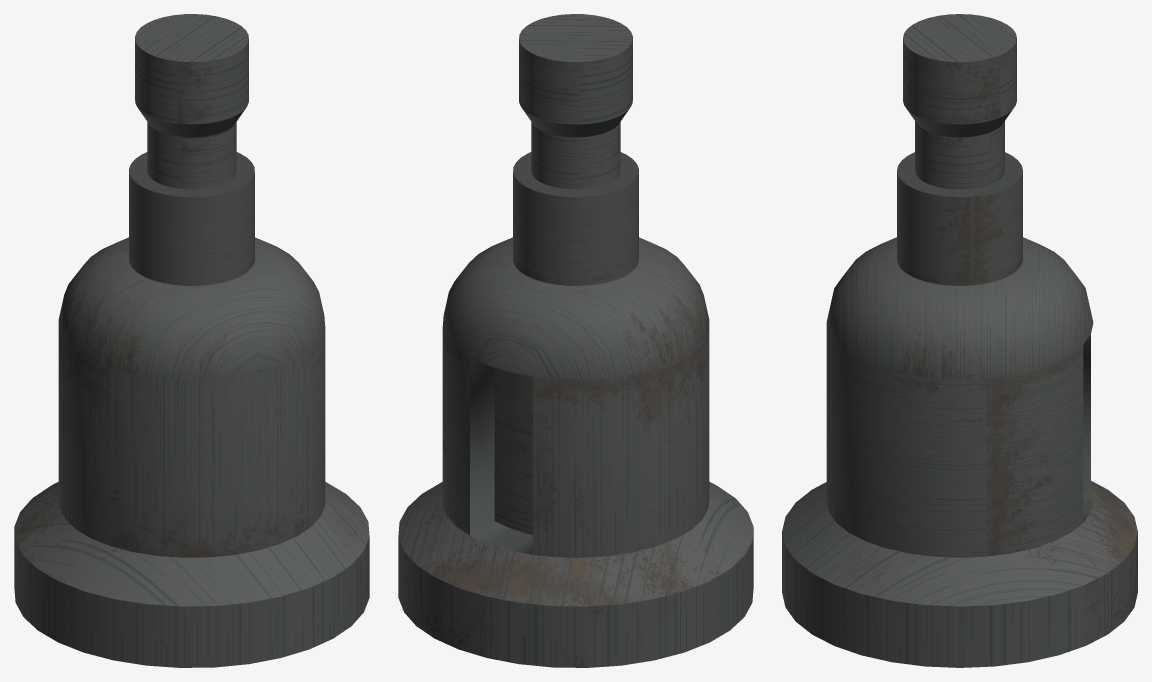
File: furnace thing.fbx
3 views of the same model, side by side, from view 1: azimuth 30°, elevation 25°; view 2: azimuth 150°, elevation 25°; view 3: azimuth 270°, elevation 25° (orthographic).
Visible parts, largest first — view 1: Cylinder; view 2: Cylinder; view 3: Cylinder.
Part boxes in pixels (x1=…): Cylinder: x1=14, y1=14, x2=369, y2=667; Cylinder: x1=398, y1=14, x2=753, y2=667; Cylinder: x1=782, y1=14, x2=1137, y2=667.
Bounding box in the file's own units: 267 × 458 × 267.
